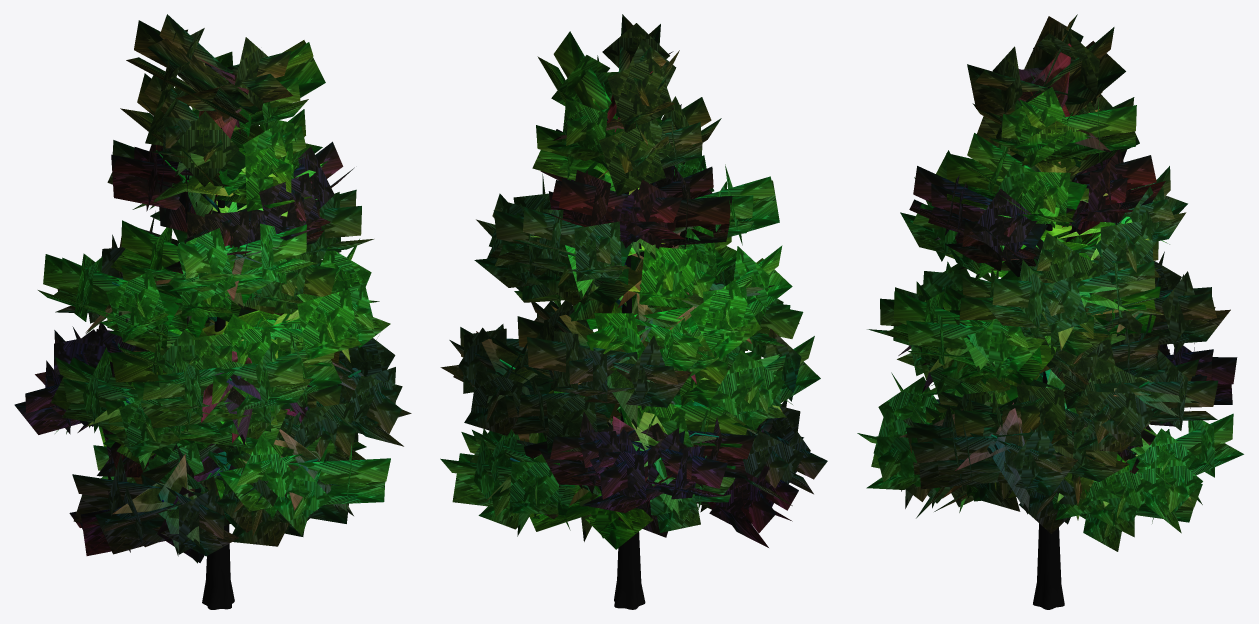
The model's file is testtree.glb.
3 views of the same model, side by side, from view 1: azimuth 30°, elevation 25°; view 2: azimuth 150°, elevation 25°; view 3: azimuth 270°, elevation 25° (orthographic). The views are drawn at different scales.
Parts seen in each view (by area): view 1: tree; view 2: tree; view 3: tree.
Part boxes in pixels (x1,y1,x2,y2): tree: (14, 14, 411, 609); tree: (440, 14, 827, 609); tree: (857, 14, 1243, 609).
Size of the model in its own units: 187 by 320 by 197.
Materials: 3 (3 with a texture image).
